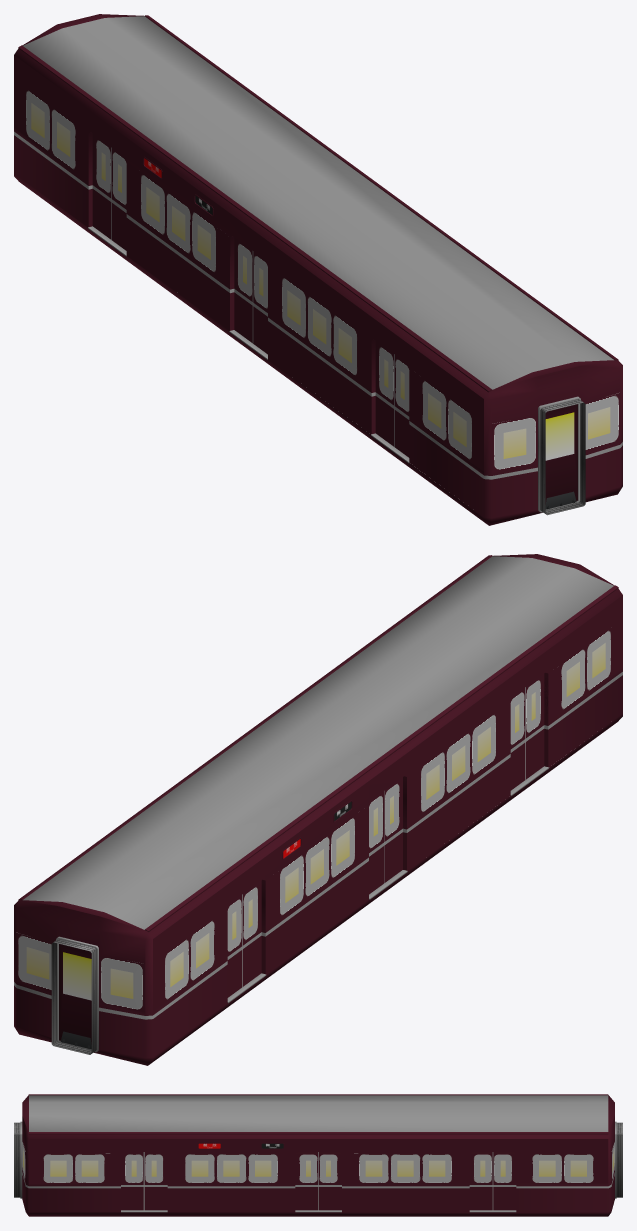
The picture shows the model from 3 angles, top to bottom: view 1: azimuth 30°, elevation 25°; view 2: azimuth 150°, elevation 25°; view 3: azimuth 270°, elevation 25°; orthographic projection. The views are drawn at different scales.
Parts seen in each view (by area): view 1: obj1; view 2: obj1; view 3: obj1.
Boxes of the visible parts, x1,y1,x2,y2 form: obj1: (14,14,622,525); obj1: (14,554,622,1065); obj1: (14,1094,622,1216).
Size of the model in its own units: 6.59 by 6.42 by 40.16.
16 materials, 15 textured.
